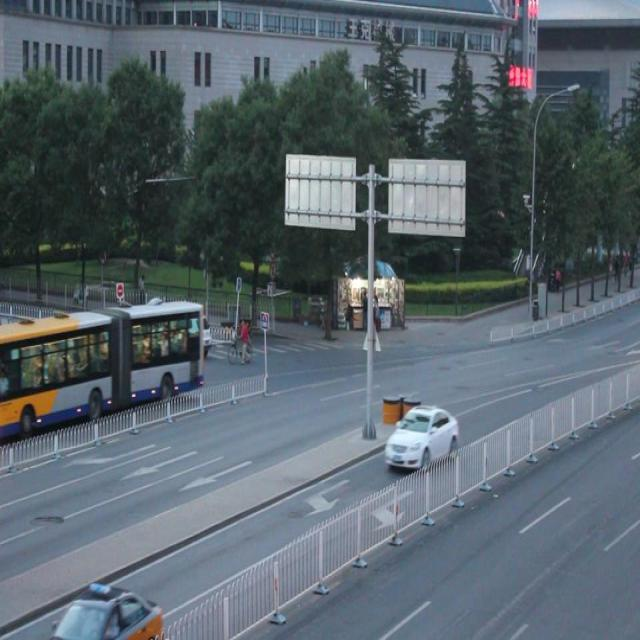car: (53, 579, 165, 640), (385, 398, 459, 474), (150, 299, 211, 354)
van: (1, 300, 204, 434)
